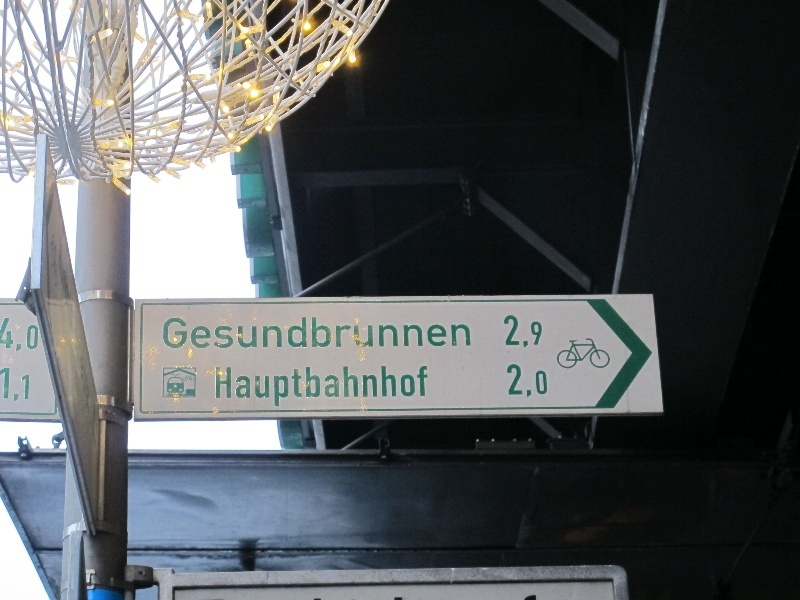text: (225, 366, 240, 408), (241, 366, 256, 408), (257, 366, 272, 408), (273, 366, 288, 408), (289, 366, 304, 408), (305, 366, 320, 408), (321, 366, 336, 408), (337, 366, 352, 408), (353, 366, 368, 408), (369, 366, 384, 408), (385, 366, 400, 408), (401, 366, 416, 408), (1, 367, 16, 404), (1, 316, 16, 353), (17, 316, 32, 353), (513, 364, 528, 399), (529, 364, 544, 399), (513, 314, 528, 349), (529, 314, 544, 349), (417, 366, 429, 408), (17, 367, 30, 404), (177, 318, 192, 350), (193, 318, 208, 350), (209, 318, 224, 350), (225, 318, 240, 350), (241, 318, 256, 350), (257, 318, 272, 350), (273, 318, 288, 350), (289, 318, 304, 350), (305, 318, 320, 350), (321, 318, 336, 350), (337, 318, 352, 350), (353, 318, 368, 350), (369, 318, 384, 350), (385, 318, 400, 350), (401, 318, 416, 350), (417, 318, 432, 350), (433, 318, 448, 350), (449, 318, 464, 350), (163, 318, 176, 350), (216, 366, 224, 408), (504, 314, 512, 349), (465, 318, 472, 350), (33, 316, 39, 353), (508, 364, 512, 399), (545, 364, 548, 399)
